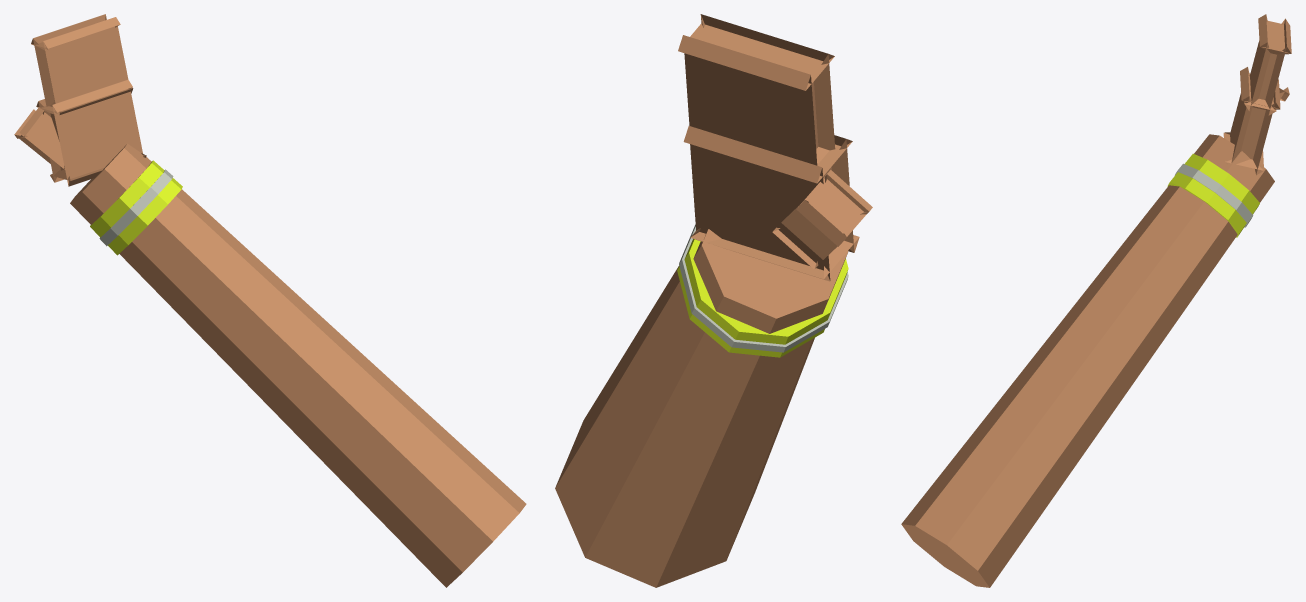
File: lwf_fp_arm_right_calm_v1.glb
3 renders of one model, left to right at view 1: azimuth 30°, elevation 25°; view 2: azimuth 150°, elevation 25°; view 3: azimuth 270°, elevation 25°, orthographic. The views are drawn at different scales.
Visible parts, largest first — view 1: LWF_FPArm_Right_Calm; view 2: LWF_FPArm_Right_Calm; view 3: LWF_FPArm_Right_Calm.
Boxes of the visible parts, bbox=[...] form: LWF_FPArm_Right_Calm: bbox=[14, 14, 526, 587]; LWF_FPArm_Right_Calm: bbox=[555, 14, 872, 587]; LWF_FPArm_Right_Calm: bbox=[901, 14, 1291, 587].
Size of the model in its own units: 0.3317 by 0.463 by 0.3555.
